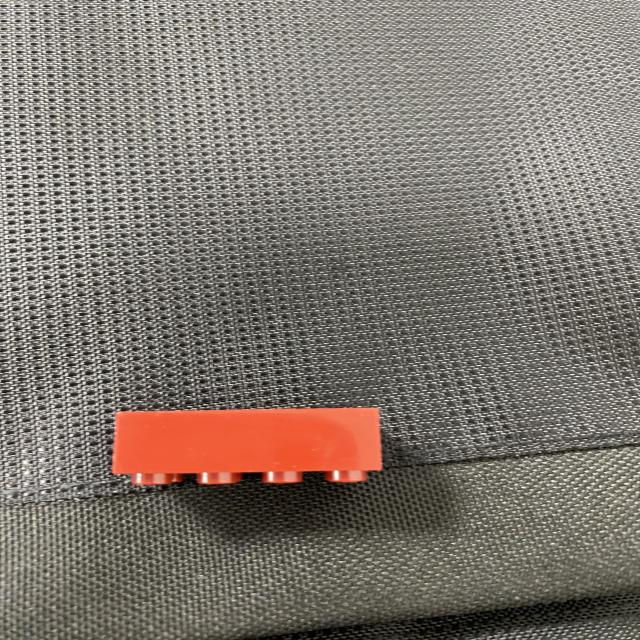C4x2x1: (115, 408, 383, 480)
